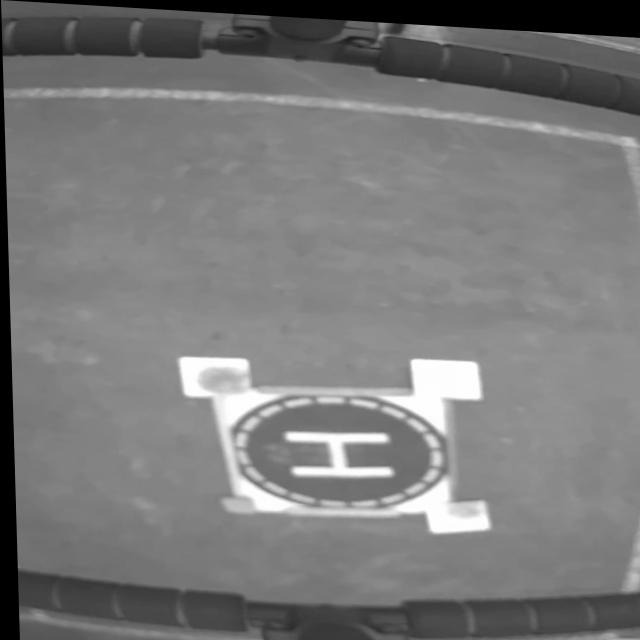Helipad: (278, 427, 391, 474)
